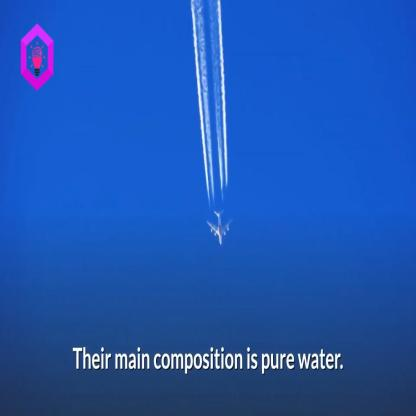plane: (205, 209, 242, 248)
